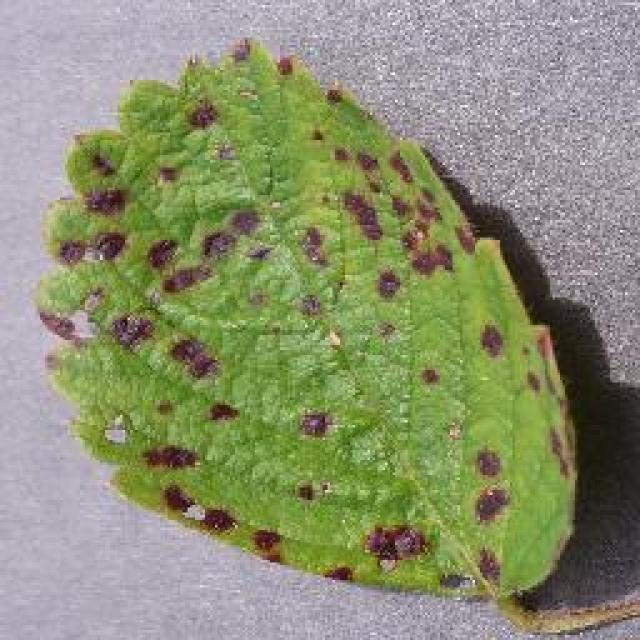Strawberry___Leaf_scorch: (73, 86, 575, 640)
